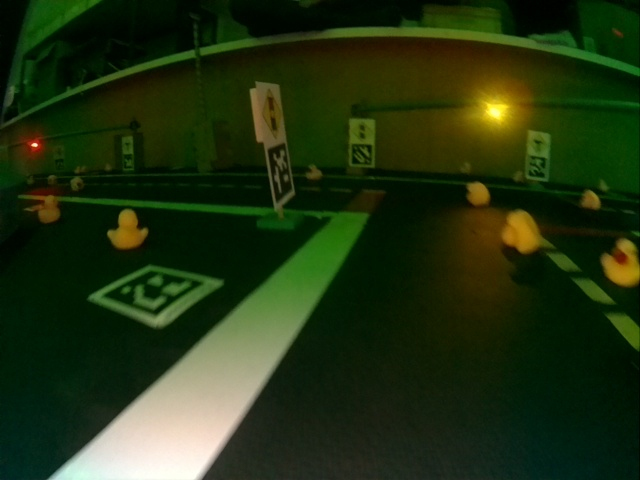Duckie: (601, 238, 638, 282), (502, 209, 539, 253), (107, 211, 147, 247), (465, 180, 490, 206), (39, 198, 60, 222), (581, 190, 601, 210), (306, 164, 321, 179), (70, 177, 81, 190), (461, 162, 469, 173), (515, 172, 523, 181)
Intersection sign: (530, 134, 549, 154), (123, 138, 132, 152)
QR code: (91, 265, 224, 328), (267, 143, 293, 204), (351, 144, 373, 165), (528, 156, 548, 178)
Signal sign: (261, 88, 285, 139)
